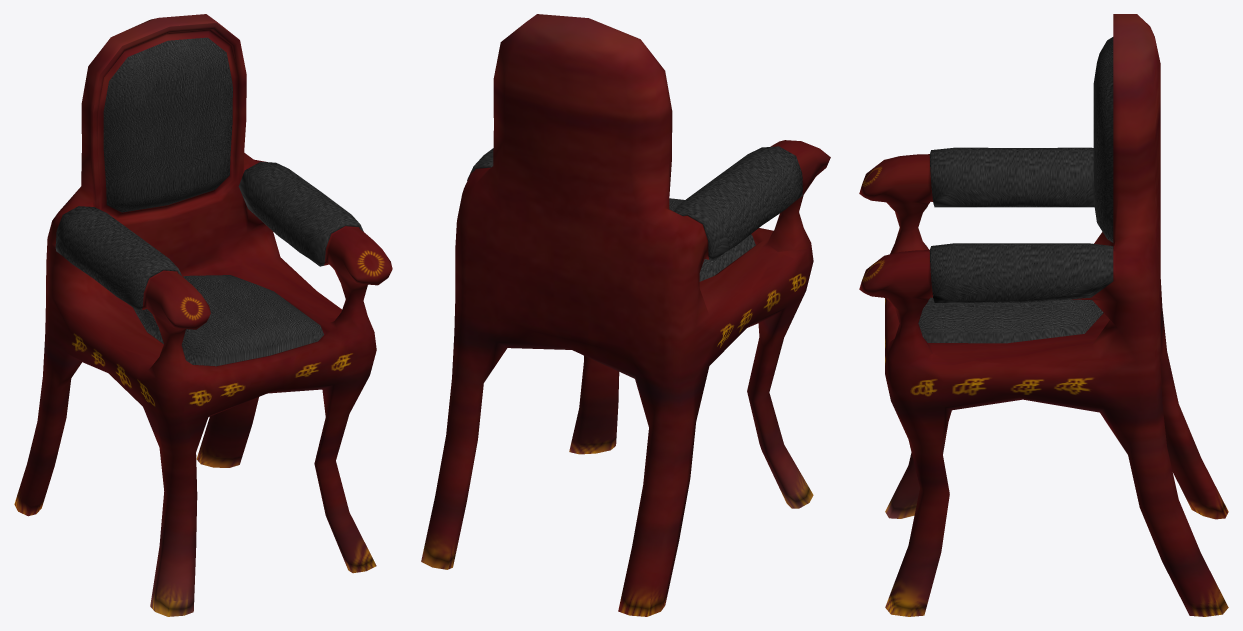
File: woodchair.fbx
3 renders of one model, left to right at view 1: azimuth 30°, elevation 25°; view 2: azimuth 150°, elevation 25°; view 3: azimuth 270°, elevation 25°, orthographic. The views are drawn at different scales.
Parts seen in each view (by area): view 1: woodchair; view 2: woodchair; view 3: woodchair.
Part boxes in pixels (x1,y1,x2,y2): woodchair: (14,14,392,616); woodchair: (421,14,830,616); woodchair: (859,14,1228,616).
Bounding box in the file's own units: 6.46 × 12.94 × 8.14.
